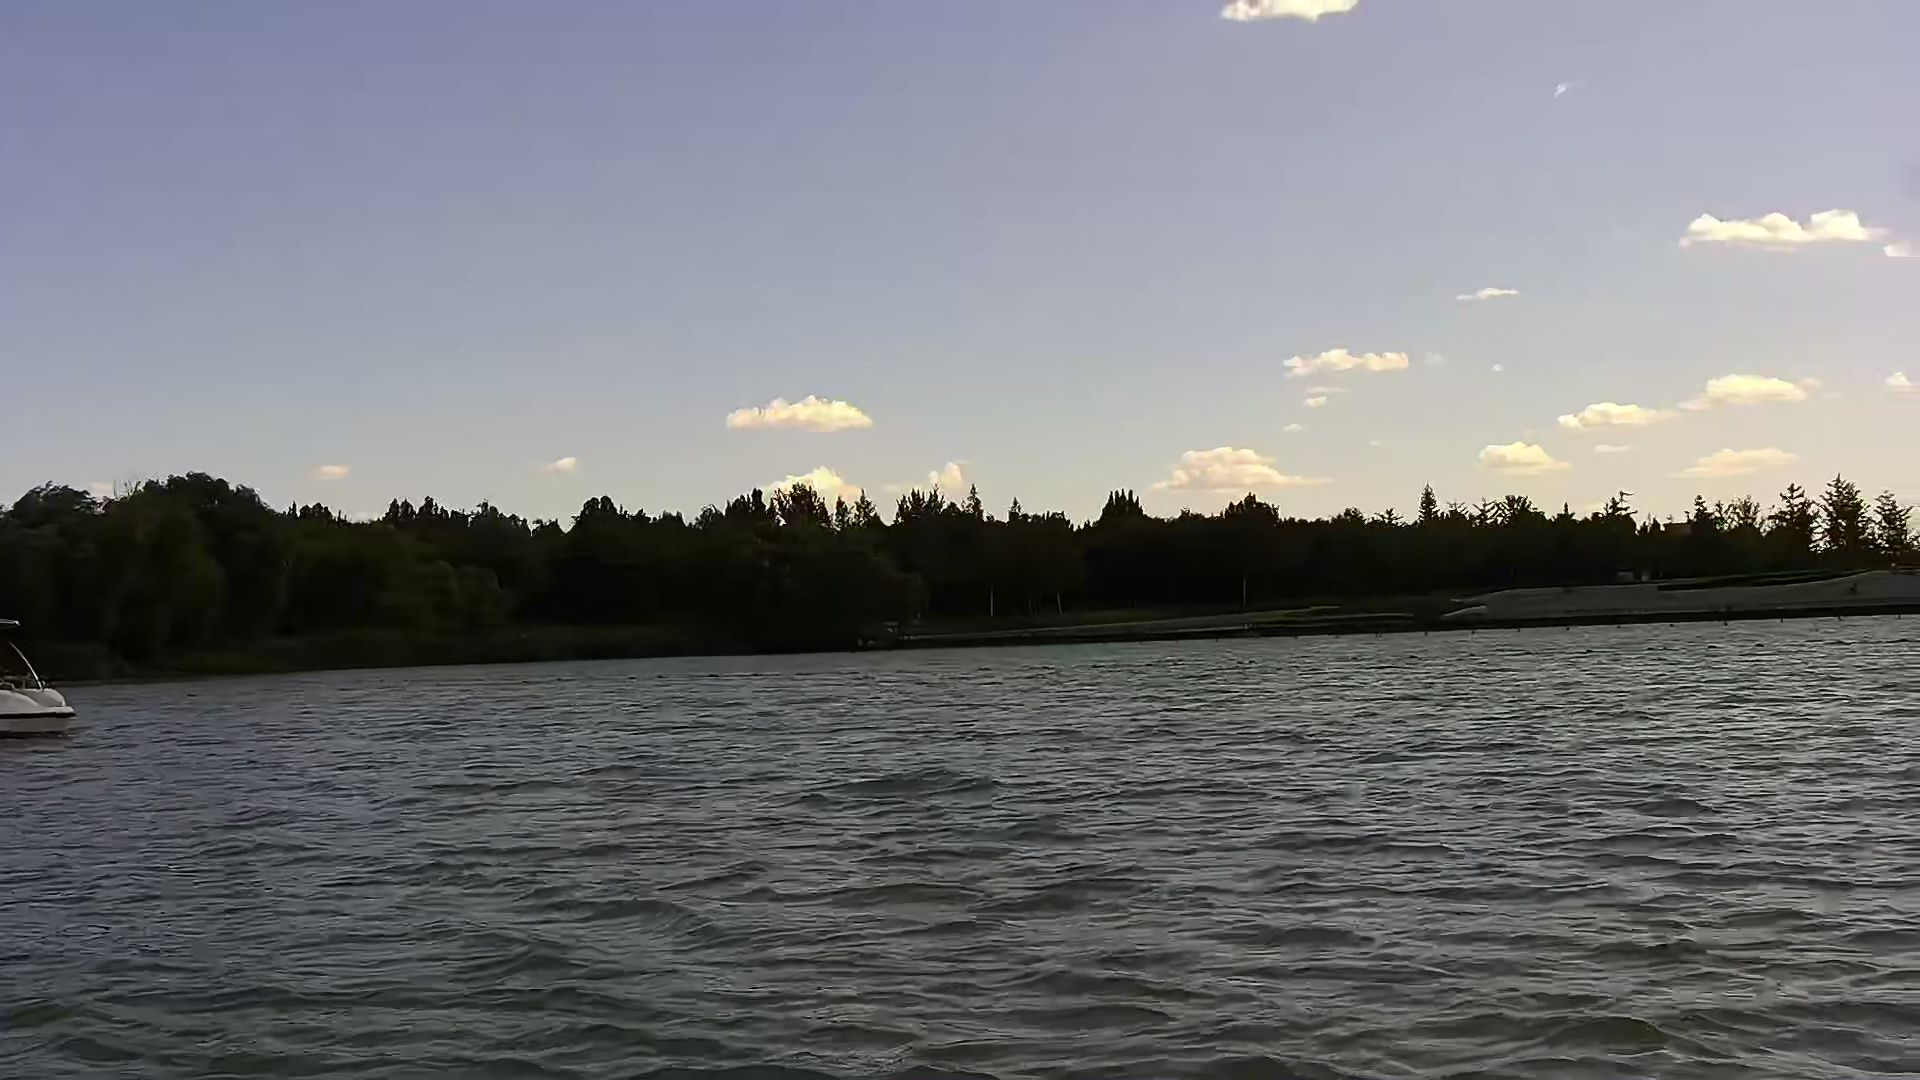harbor: (943, 556, 1920, 651)
